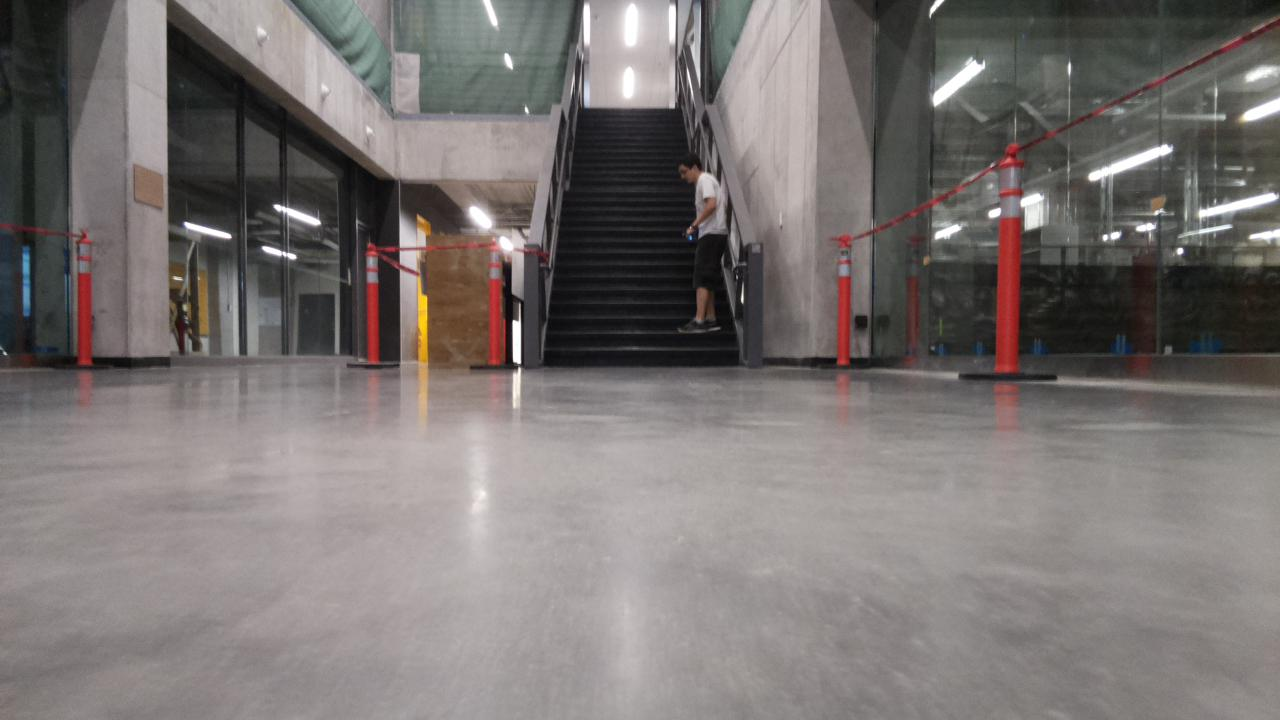person: (674, 151, 730, 333)
stair: (541, 106, 741, 367)
